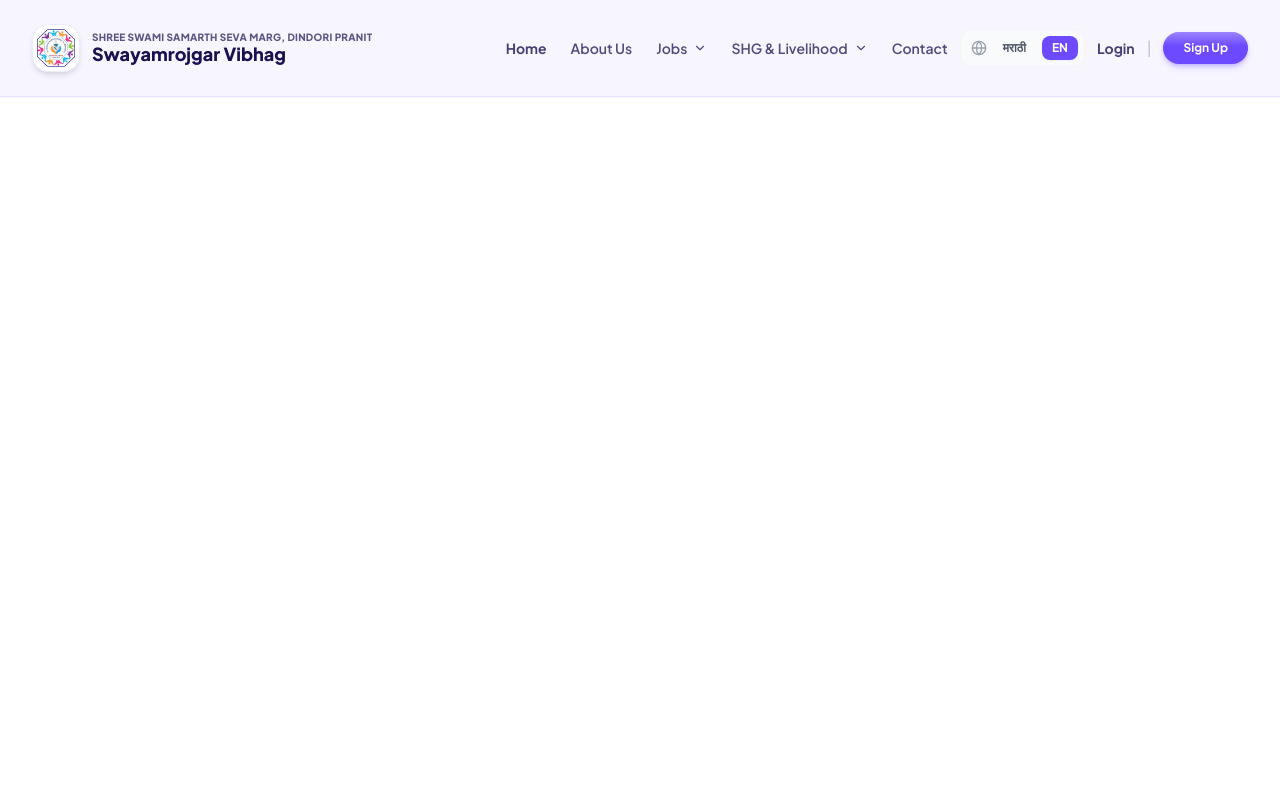
Scenario: Navbar › opens the SHG coming-soon popup from the SHG dropdown
Hover over the button "SHG & Livelihood" at (800, 48), box 731,30 -> 868,66
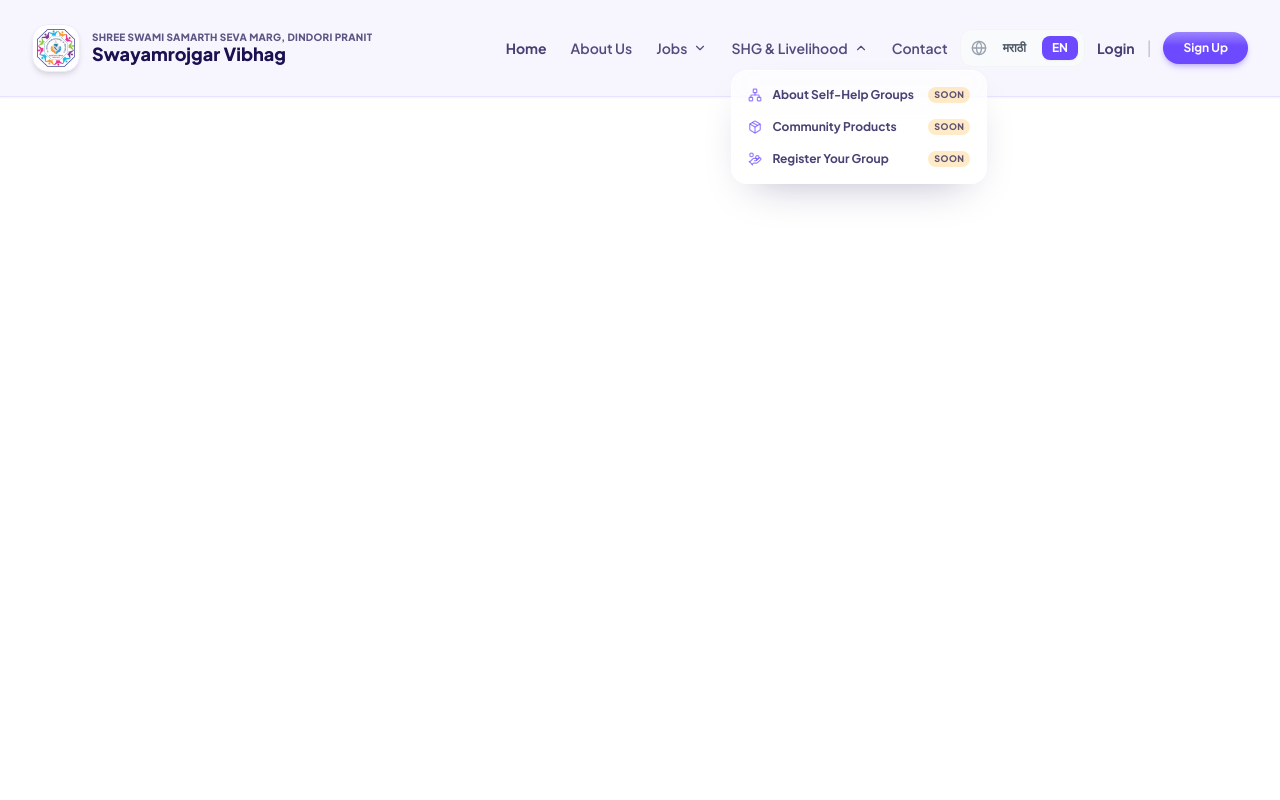
Click the button "About Self-Help Groups Soon". click: (859, 95)
box: 732,79 -> 986,111
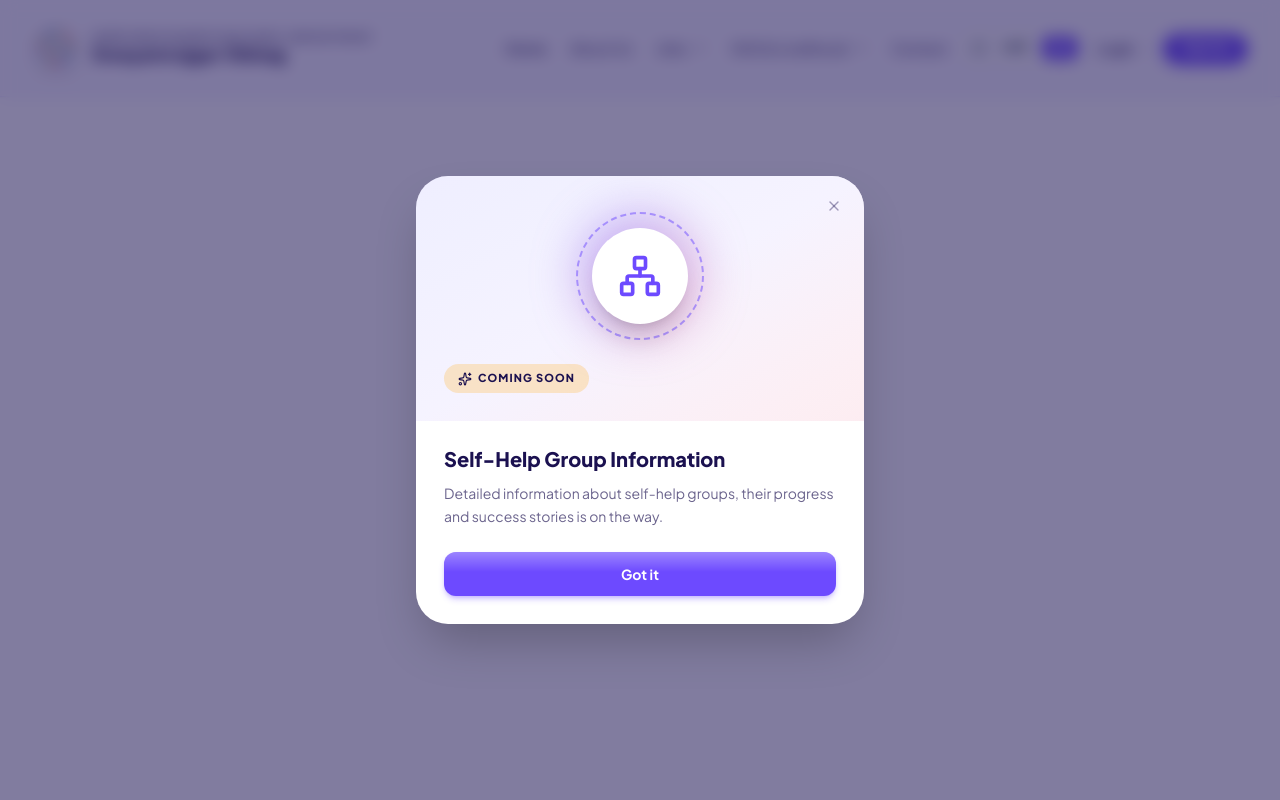
Result: the heading "Self-Help Group Information" is shown at 444,446 -> 725,471
Result: the text "Coming Soon" is shown at 444,364 -> 589,393
